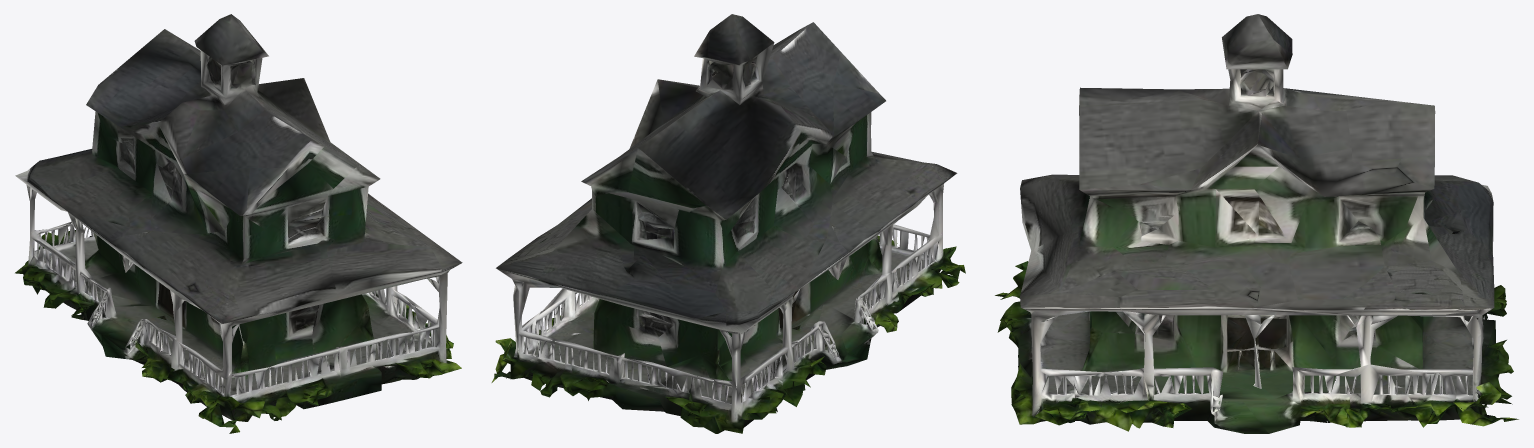
The model's file is haus_england.glb.
The picture shows the model from 3 angles, left to right: view 1: azimuth 30°, elevation 25°; view 2: azimuth 150°, elevation 25°; view 3: azimuth 270°, elevation 25°; orthographic projection. The views are drawn at different scales.
Visible parts, largest first — view 1: tripo_node_79b92453-6ef3-4678-941a-2e7ff5292210; view 2: tripo_node_79b92453-6ef3-4678-941a-2e7ff5292210; view 3: tripo_node_79b92453-6ef3-4678-941a-2e7ff5292210.
Part boxes in pixels (<box>): tripo_node_79b92453-6ef3-4678-941a-2e7ff5292210: <box>15,14,462,433</box>; tripo_node_79b92453-6ef3-4678-941a-2e7ff5292210: <box>491,14,965,433</box>; tripo_node_79b92453-6ef3-4678-941a-2e7ff5292210: <box>995,14,1518,433</box>.
Bounding box in the file's own units: 0.6539 × 0.7251 × 0.9914.
Materials: 1 (1 with a texture image).
